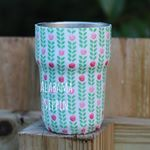cups: (32, 19, 113, 137)
